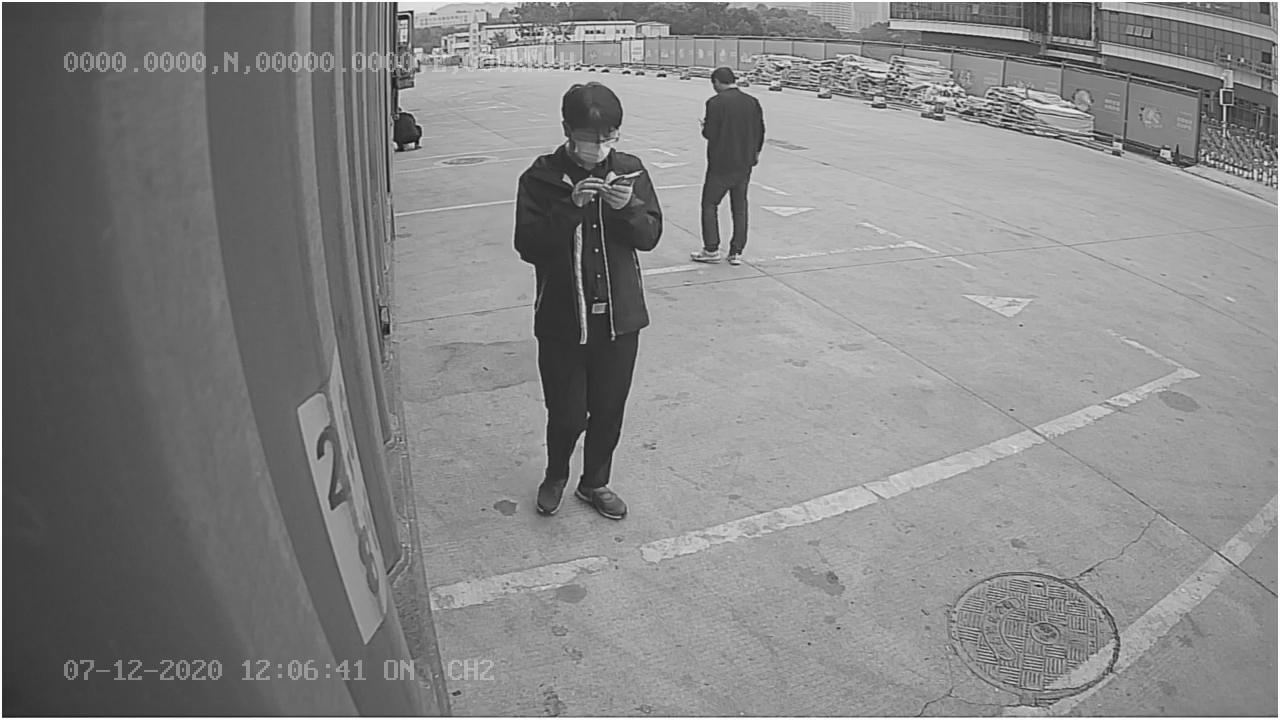person: (510, 74, 664, 519), (688, 61, 765, 268)
